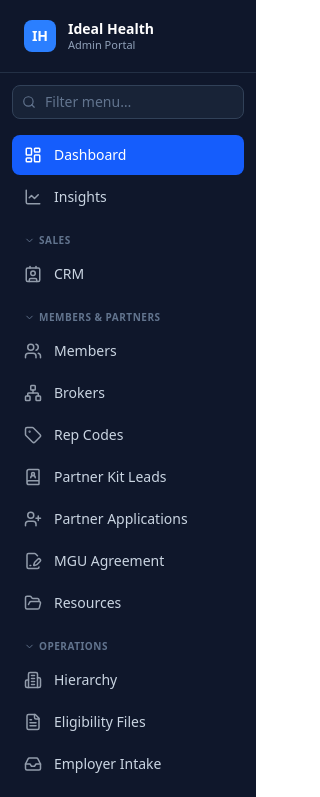
Test: filter › reports when nothing matches instead of showing a blank menu
In the search field named "filter admin navigation": (128, 102) [12,85,244,119], type "zzzzz"
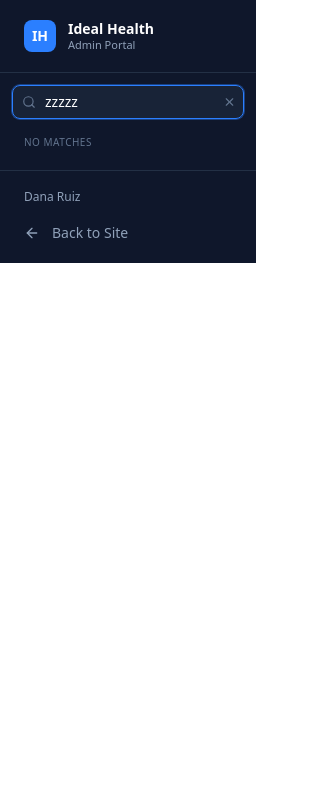
Expected: no the link "Dashboard" are shown
Expected: the message reads "No matches", [24,135,92,149]
